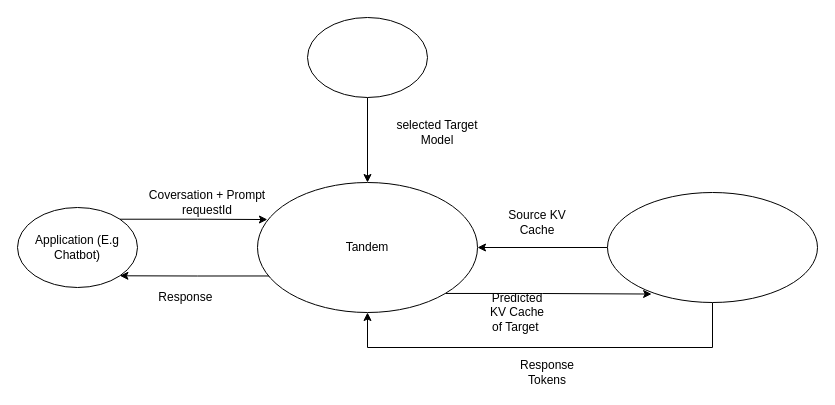
The diagram is 835 pixels wide and 405 high, and some of its shapes have lost their labels. The shapes that lost their labels are listed below. From the top down, each one's centre as x and y in pixels, then its label:
pixel 367 57: vLLM semantic router
pixel 712 247: vLLM Inference engine ( has Cache Manager)
